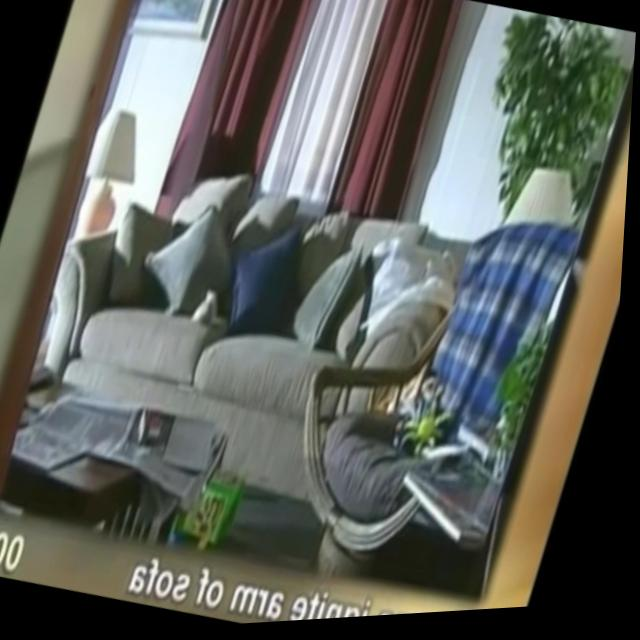fire: (381, 361, 433, 426)
